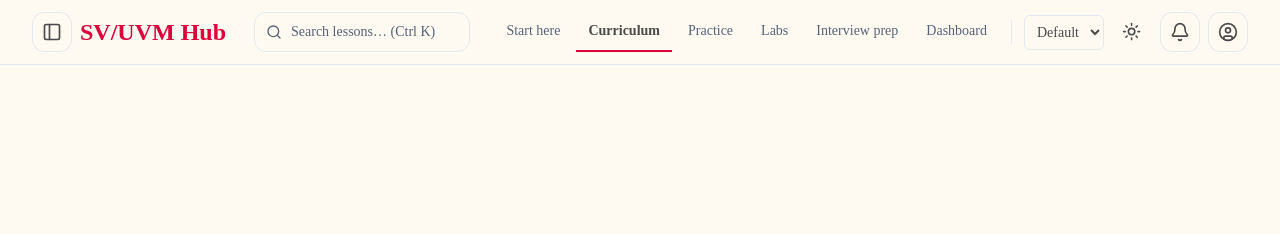
it: account-only UI (G30-SIDE-V07) › says so, as visible text, when the feed cannot be loaded
Click the button with test id "notification-button" at (1180, 32), box [1160,12,1200,52]
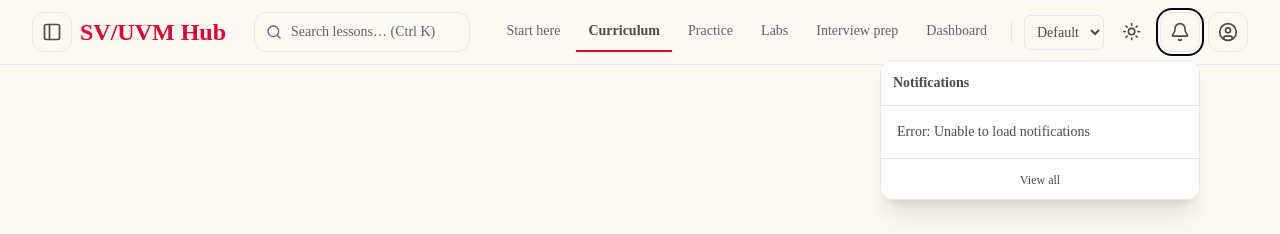
Expected: the text "Error: Unable to load notifications" is shown, [897,124,1090,139]
